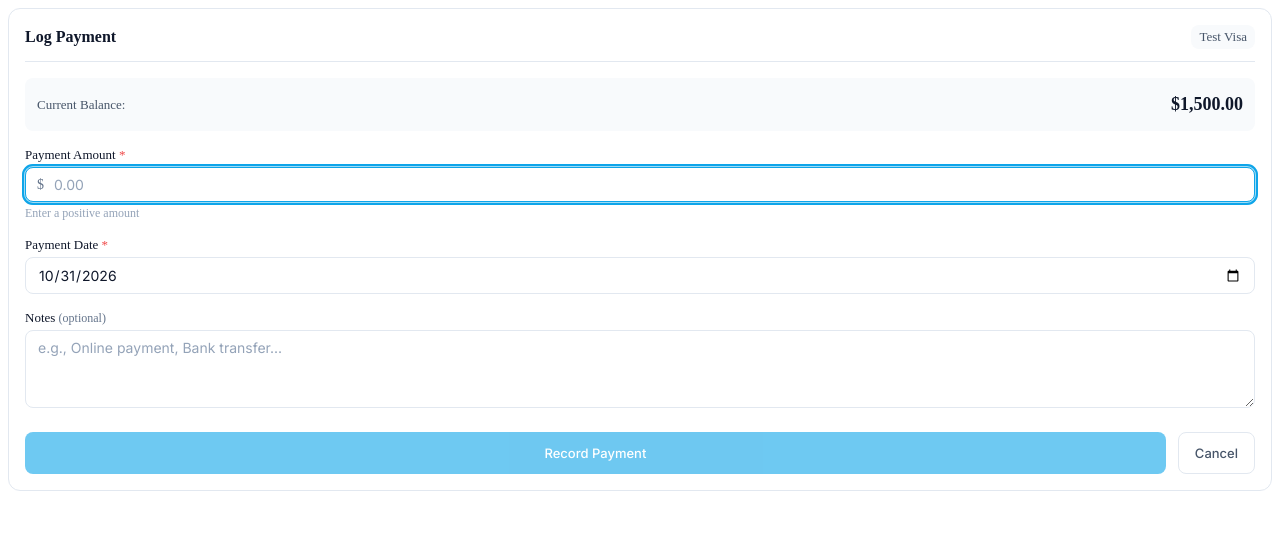
Test case: CreditCardPaymentForm › Form validation › should show error for zero amount
The image size is (1280, 558).
Step 1. Type "0" into the field labelled "Payment Amount *" → (640, 184), box [25, 167, 1255, 202]
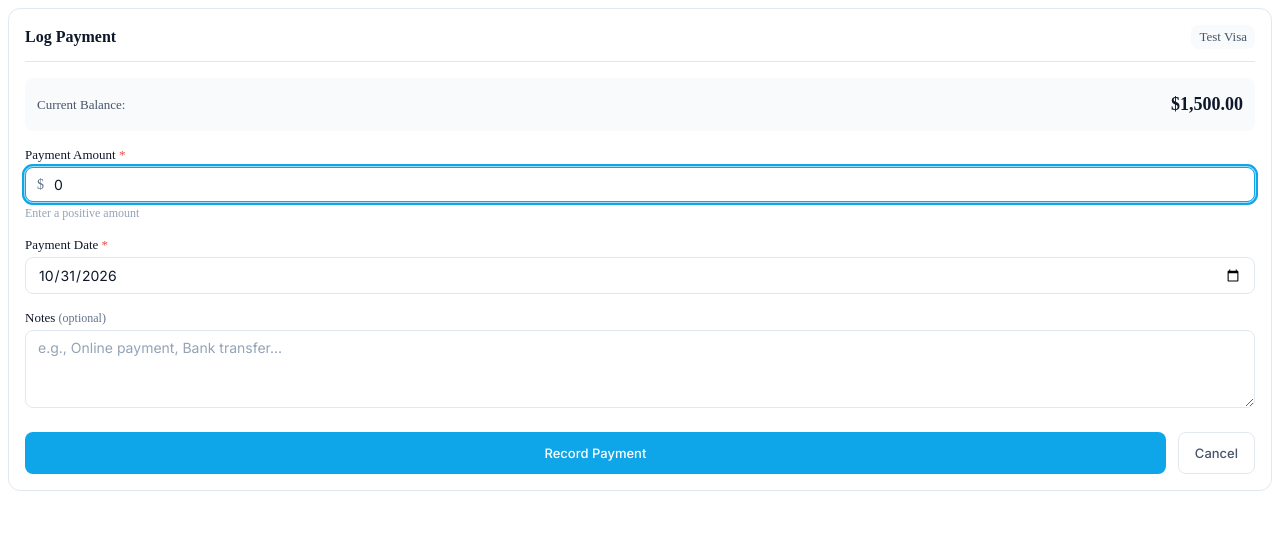
Step 2. Click the button "Record Payment" → (595, 453), box [25, 432, 1166, 474]
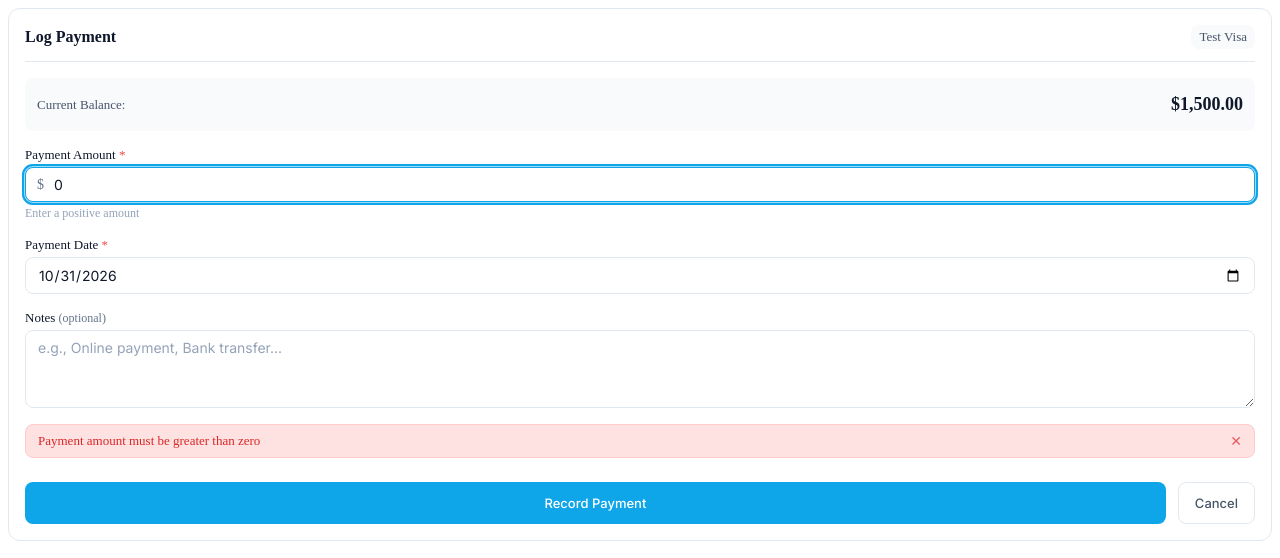
Expected: the text "Payment amount must be greater than zero" is shown, [38, 433, 260, 448]
